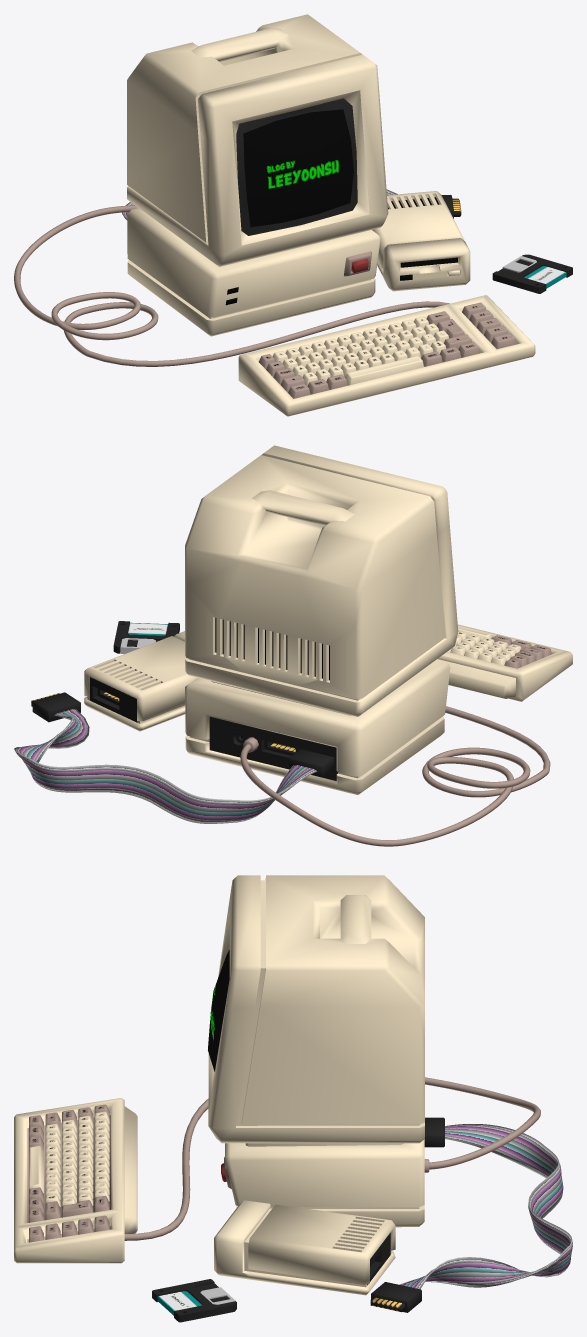
Rendered from retro_computer.glb.
3 views of the same model, one above another, from view 1: azimuth 30°, elevation 25°; view 2: azimuth 150°, elevation 25°; view 3: azimuth 270°, elevation 25° (orthographic). The views are drawn at different scales.
Visible parts, largest first — view 1: computer, keyboard-keys, keyboard, floppy drive, BezierCurve, floppy; view 2: computer, ribbon, floppy drive, BezierCurve, keyboard, keyboard-keys, floppy, ribbon connector 2, ribbon connector 1; view 3: computer, floppy drive, keyboard, keyboard-keys, ribbon, BezierCurve, floppy, ribbon connector 2, ribbon connector 1.
Part boxes in pixels (bbox=[...]): computer: bbox=[127, 14, 388, 336]; keyboard-keys: bbox=[259, 302, 516, 398]; keyboard: bbox=[238, 295, 535, 416]; floppy drive: bbox=[372, 191, 470, 291]; BezierCurve: bbox=[14, 205, 449, 366]; floppy: bbox=[492, 254, 572, 293]; computer: bbox=[185, 445, 458, 794]; ribbon: bbox=[14, 709, 317, 823]; floppy drive: bbox=[84, 631, 196, 731]; BezierCurve: bbox=[240, 706, 550, 846]; keyboard: bbox=[437, 624, 572, 701]; keyboard-keys: bbox=[447, 625, 551, 668]; floppy: bbox=[113, 621, 179, 653]; ribbon connector 2: bbox=[31, 692, 80, 722]; ribbon connector 1: bbox=[288, 749, 334, 777]; computer: bbox=[208, 875, 424, 1227]; floppy drive: bbox=[214, 1200, 395, 1295]; keyboard: bbox=[14, 1098, 137, 1263]; keyboard-keys: bbox=[29, 1104, 109, 1242]; ribbon: bbox=[399, 1124, 572, 1289]; BezierCurve: bbox=[124, 1077, 540, 1240]; floppy: bbox=[152, 1279, 236, 1322]; ribbon connector 2: bbox=[370, 1282, 421, 1312]; ribbon connector 1: bbox=[424, 1117, 444, 1147].
Bounding box in the file's own units: 79.95 × 41.49 × 76.59.
Materials: 11 (11 with a texture image).
